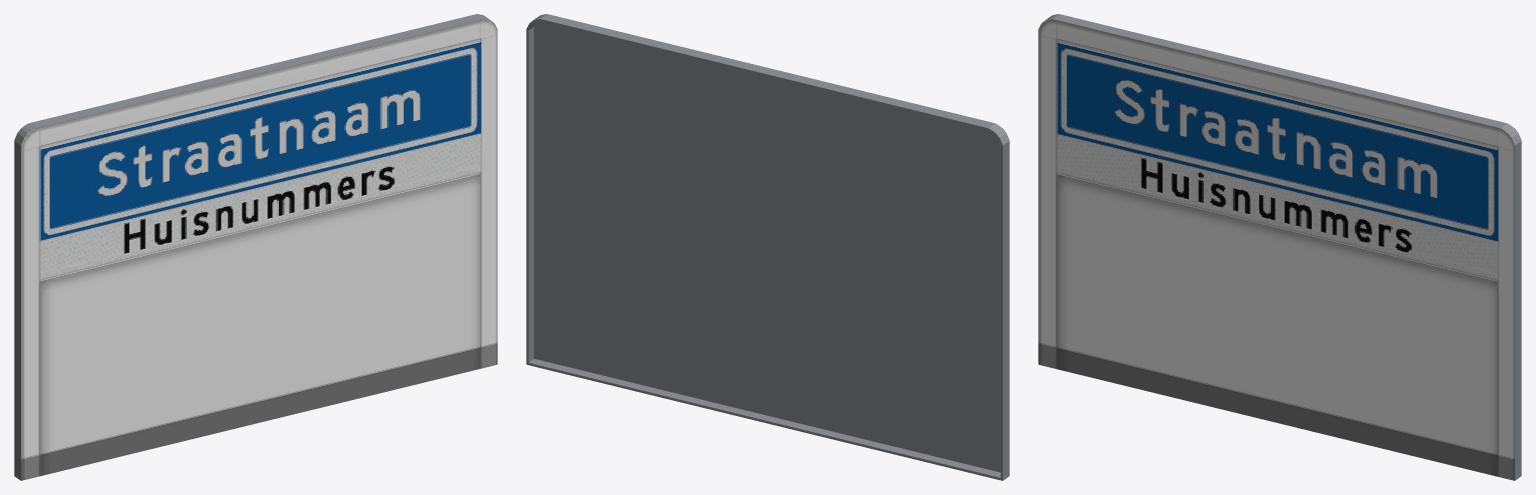
3 renders of one model, left to right at view 1: azimuth 30°, elevation 25°; view 2: azimuth 150°, elevation 25°; view 3: azimuth 330°, elevation 25°, orthographic.
Parts seen in each view (by area): view 1: cat_30b4b1786f4f27fd; view 2: cat_30b4b1786f4f27fd; view 3: cat_30b4b1786f4f27fd.
Boxes of the visible parts, bbox=[...] form: cat_30b4b1786f4f27fd: bbox=[14, 14, 497, 480]; cat_30b4b1786f4f27fd: bbox=[526, 14, 1009, 480]; cat_30b4b1786f4f27fd: bbox=[1038, 14, 1521, 480].
Bounding box in the file's own units: 0.6 × 0.015 × 0.4199.
2 materials, 1 textured.
